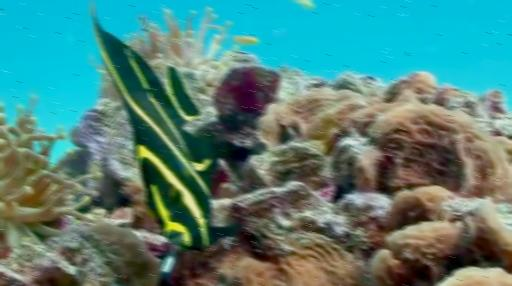Fish: (91, 4, 234, 259)
